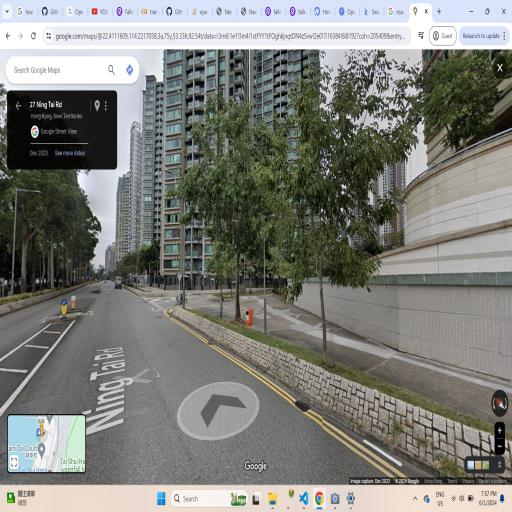Roads: (4, 274, 372, 450)
Trees: (290, 76, 383, 357), (192, 104, 288, 334), (21, 168, 97, 284)
